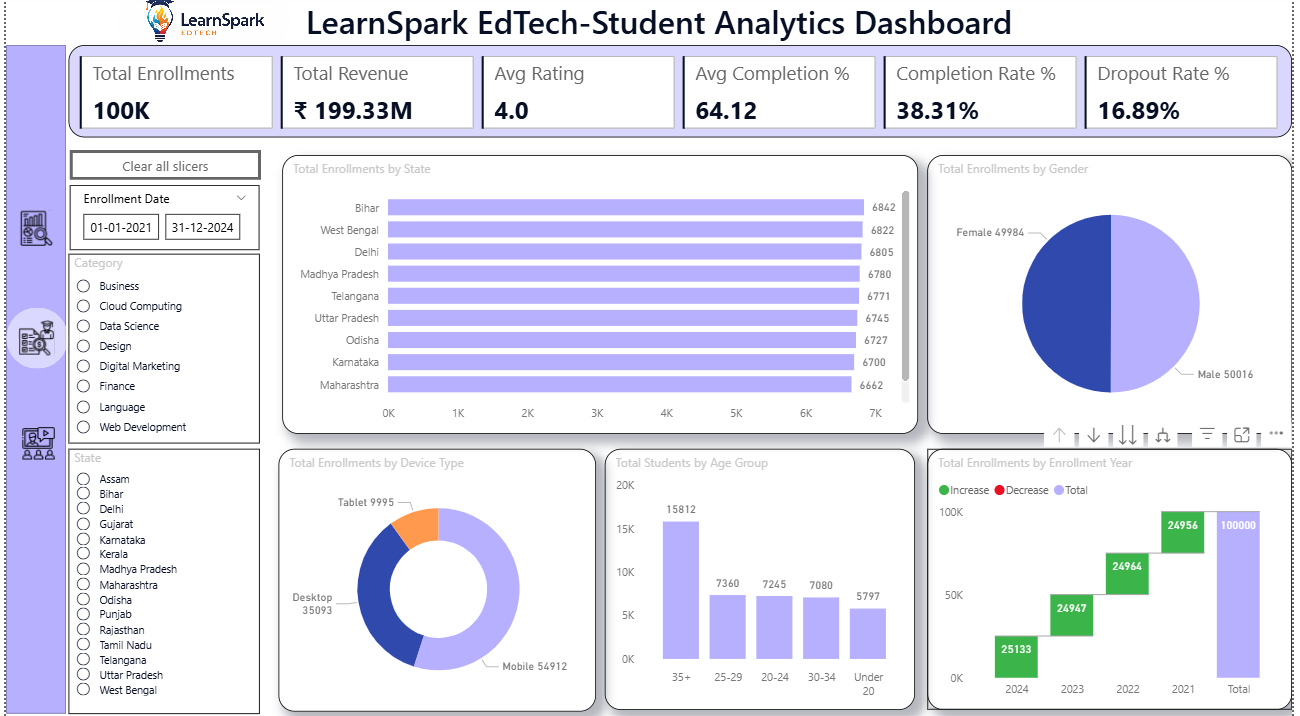

This screenshot's page, from the dashboard's own definition file:
{"tool":"powerbi","page":{"name":"Student Analytics","canvas":[1280,720],"ordinal":1},"visuals":[{"type":"cardVisual","fields":{"Data":["All Measures.Total Enrollments","All Measures.Total Revenue","All Measures.Avg Rating","All Measures.Avg Completion %","All Measures.Completion Rate %","All Measures.Dropout Rate %"]},"box":[62.1,50,1217.8,92.1],"z":0},{"type":"textbox","box":[31,0.2,1237.7,58.5],"z":1000},{"type":"listSlicer","fields":{"Values":["Courses.Category"]},"box":[62.1,257.7,190.3,189.1],"z":2000},{"type":"listSlicer","fields":{"Values":["Students.State"]},"box":[62.1,451.8,190.3,263.7],"z":3000},{"type":"clusteredColumnChart","fields":{"Category":["Students.Age Group"],"Y":["All Measures.Total Students"]},"box":[595.8,451.8,308.5,260],"z":4000},{"type":"pieChart","fields":{"Y":["All Measures.Total Enrollments"],"Category":["Students.Gender"]},"box":[916.7,159.5,363.2,277.4],"z":5000},{"type":"donutChart","fields":{"Category":["Students.Device Type"],"Y":["All Measures.Total Enrollments"]},"box":[271.1,451.8,316,261.2],"z":6000},{"type":"clusteredBarChart","fields":{"Category":["Students.State"],"Y":["All Measures.Total Enrollments"]},"box":[274.8,159.5,633.2,277.4],"z":7000},{"type":"waterfallChart","fields":{"Category":["Enrollments.Enrollment Year","Enrollments.Status"],"Y":["All Measures.Total Enrollments"]},"box":[916.7,451.8,363.2,260],"z":8000},{"type":"slicer","fields":{"Values":["Enrollments.Enrollment Date"]},"box":[63.3,189.3,189.1,64.7],"z":9000},{"type":"actionButton","box":[63.3,154.5,190.3,29.9],"z":10000},{"type":"shape","box":[0,49.8,59.7,665.5],"z":11000},{"type":"actionButton","box":[0,189.1,61,87.1],"z":12000},{"type":"actionButton","box":[0,311,62.2,61],"z":13000},{"type":"actionButton","box":[2.2,414.9,59.7,61],"z":14000},{"type":"image","box":[104.5,0,184.1,52.2],"z":15000}]}

Visuals, with their boxes on the page's 1280x720 design canvas (x1, y1, x2, y2). These are canvas units, not pixel positions in the 1300x716 screenshot, which may show the page scaled, cropped or inside an application window:
cardVisual - All Measures.Total Enrollments x All Measures.Total Revenue: left=62, top=50, right=1280, bottom=142
textbox: left=31, top=0, right=1269, bottom=59
listSlicer - Courses.Category: left=62, top=258, right=252, bottom=447
listSlicer - Students.State: left=62, top=452, right=252, bottom=716
clusteredColumnChart - Students.Age Group x All Measures.Total Students: left=596, top=452, right=904, bottom=712
pieChart - All Measures.Total Enrollments x Students.Gender: left=917, top=160, right=1280, bottom=437
donutChart - Students.Device Type x All Measures.Total Enrollments: left=271, top=452, right=587, bottom=713
clusteredBarChart - Students.State x All Measures.Total Enrollments: left=275, top=160, right=908, bottom=437
waterfallChart - Enrollments.Enrollment Year x Enrollments.Status: left=917, top=452, right=1280, bottom=712
slicer - Enrollments.Enrollment Date: left=63, top=189, right=252, bottom=254
actionButton: left=63, top=154, right=254, bottom=184
shape: left=0, top=50, right=60, bottom=715
actionButton: left=0, top=189, right=61, bottom=276
actionButton: left=0, top=311, right=62, bottom=372
actionButton: left=2, top=415, right=62, bottom=476
image: left=104, top=0, right=289, bottom=52
